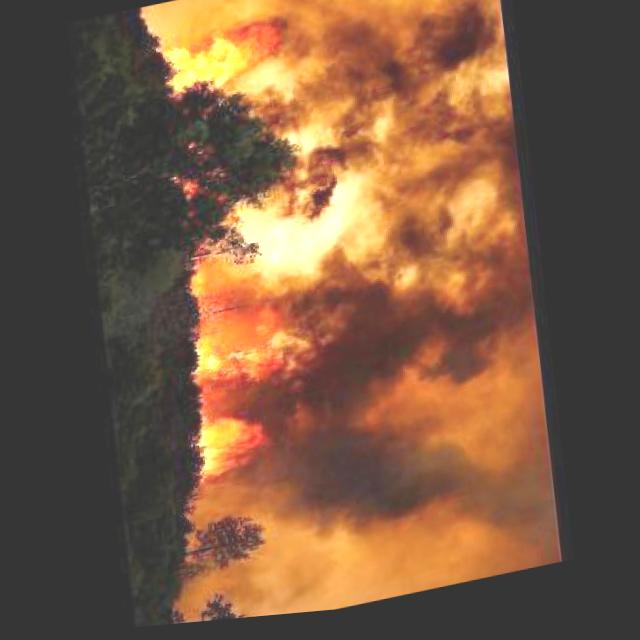helmet: (180, 284, 348, 500), (164, 22, 293, 111)
no_helmet: (281, 0, 576, 616)
